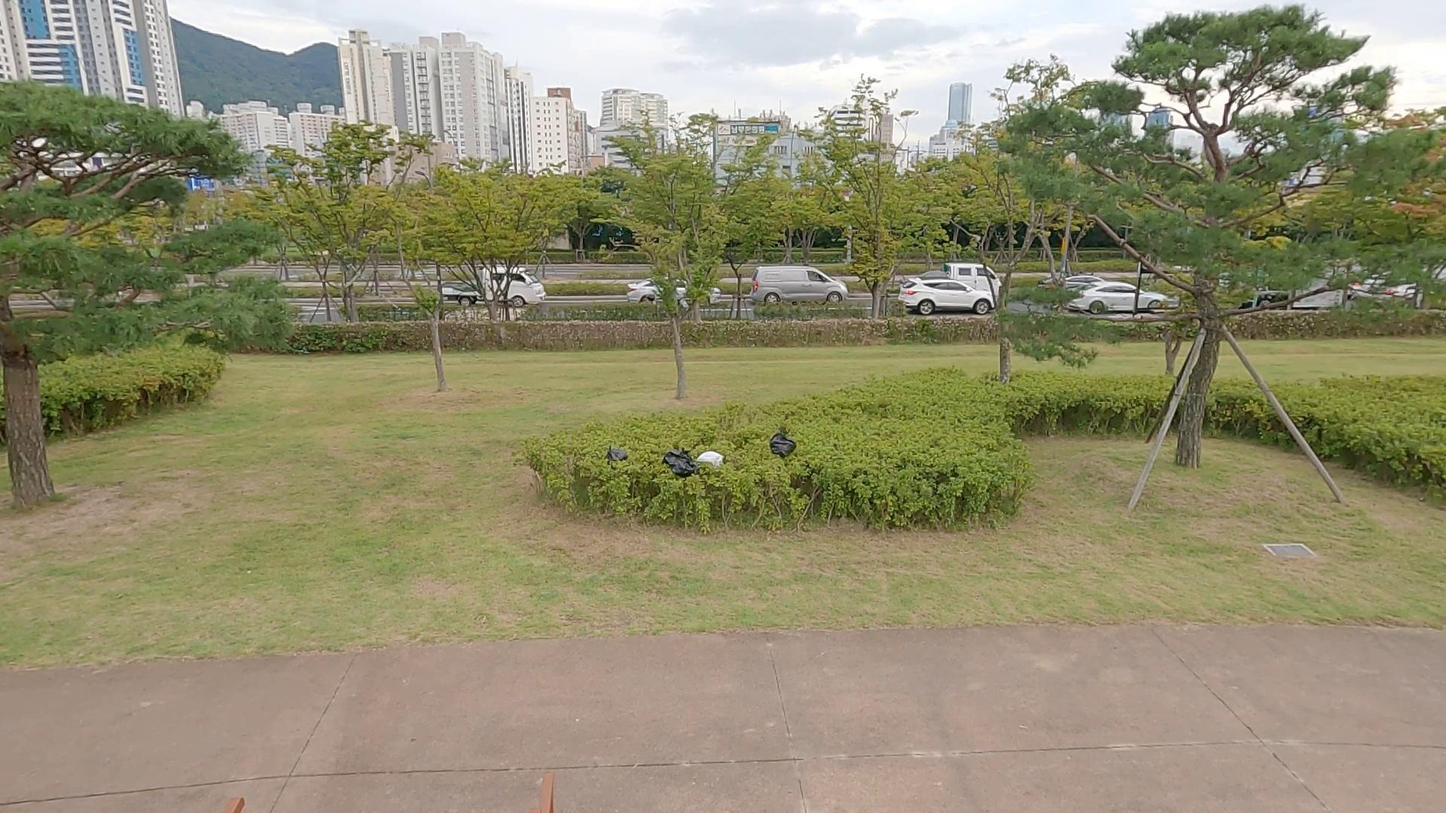trash: (663, 450, 697, 478), (768, 427, 796, 457), (695, 449, 724, 468), (609, 443, 631, 465)
